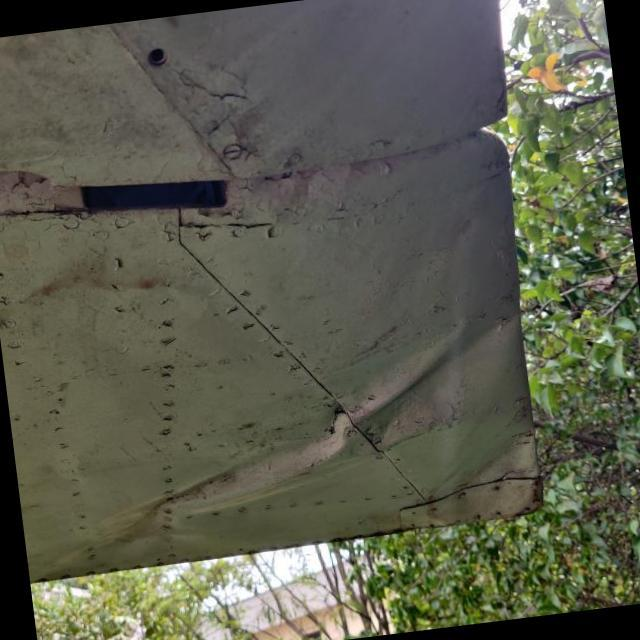Dent: (260, 306, 493, 496), (39, 452, 260, 586)
Rupture: (316, 407, 348, 440)
